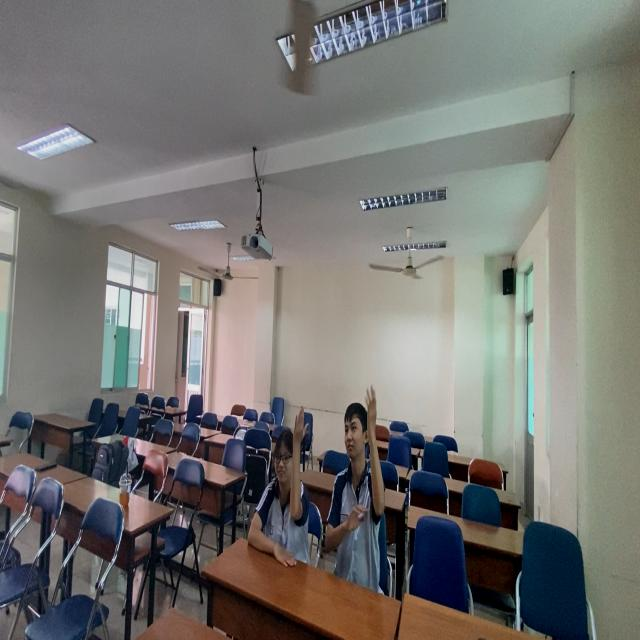raise_hand: (318, 378, 403, 602), (233, 395, 317, 583)
